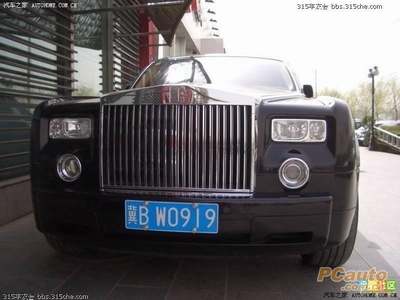plate_number: (124, 198, 219, 234)
